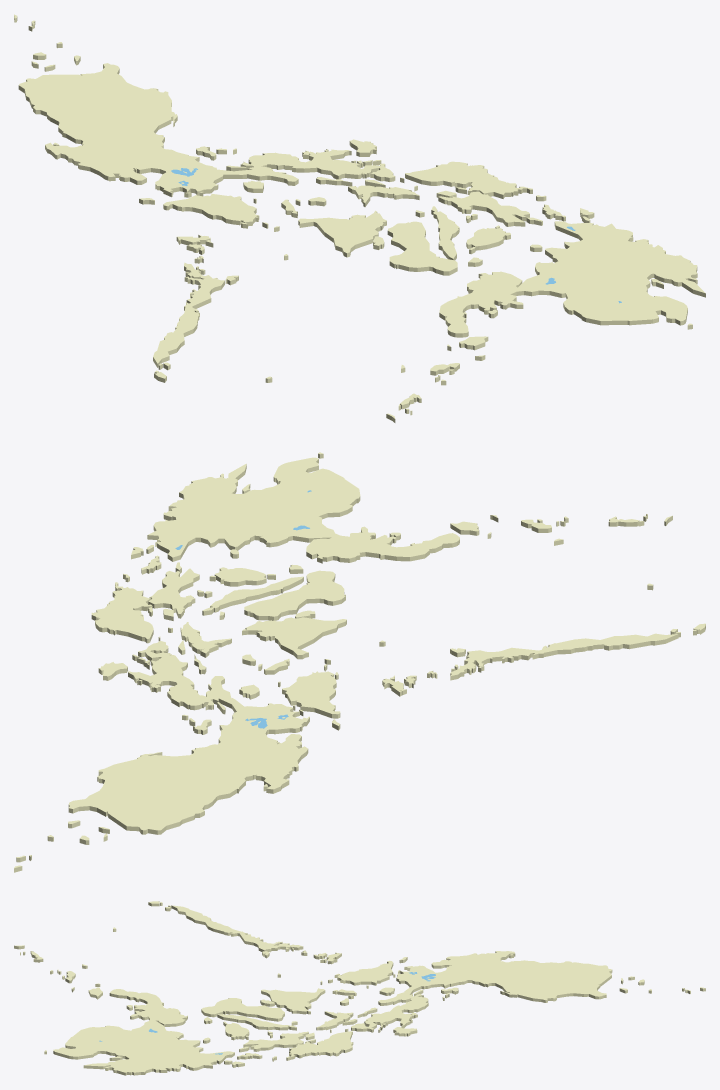
The model's file is Philippines.obj.
3 views of the same model, one above another, from view 1: azimuth 30°, elevation 25°; view 2: azimuth 150°, elevation 25°; view 3: azimuth 270°, elevation 25° (orthographic). The views are drawn at different scales.
Visible parts, largest first — view 1: Pinas_Mesh.001; view 2: Pinas_Mesh.001; view 3: Pinas_Mesh.001.
Boxes of the visible parts, x1,y1,x2,y2 form: Pinas_Mesh.001: (14, 14, 705, 422); Pinas_Mesh.001: (14, 452, 705, 872); Pinas_Mesh.001: (14, 901, 705, 1075).
Bounding box in the file's own units: 12.67 × 0.1007 × 21.59.
